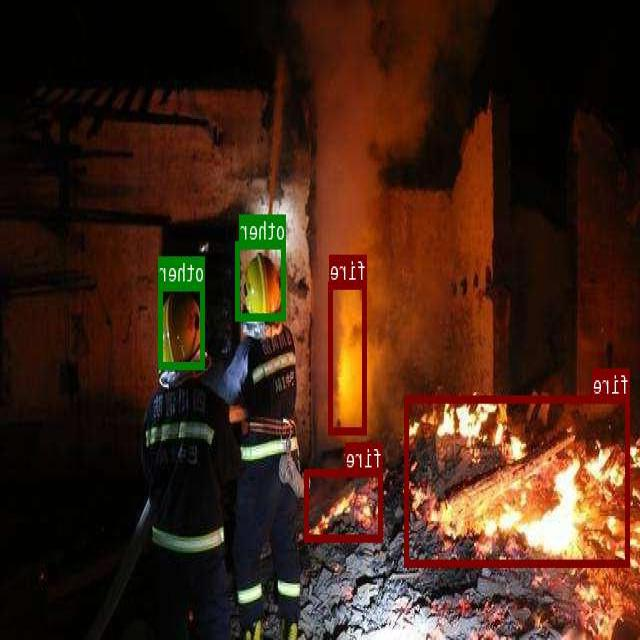fire: (406, 394, 630, 565), (329, 280, 368, 432), (306, 468, 384, 540)
other: (236, 239, 286, 320), (160, 283, 206, 367)
